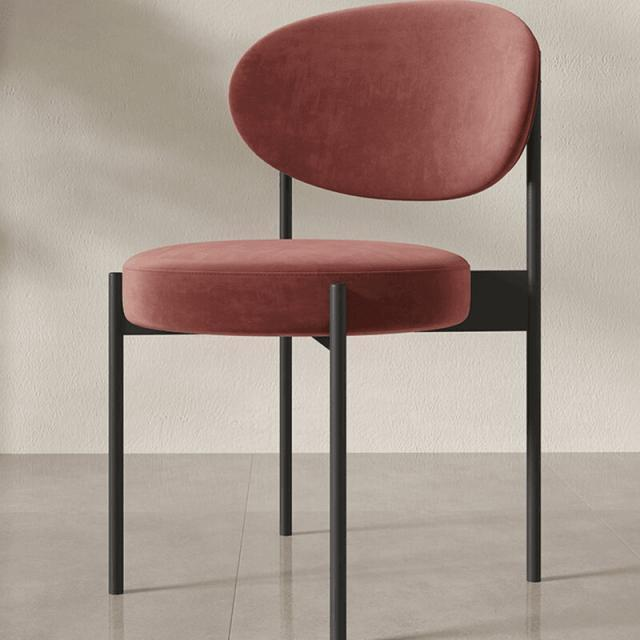chair: (95, 2, 560, 640), (106, 18, 568, 342)
